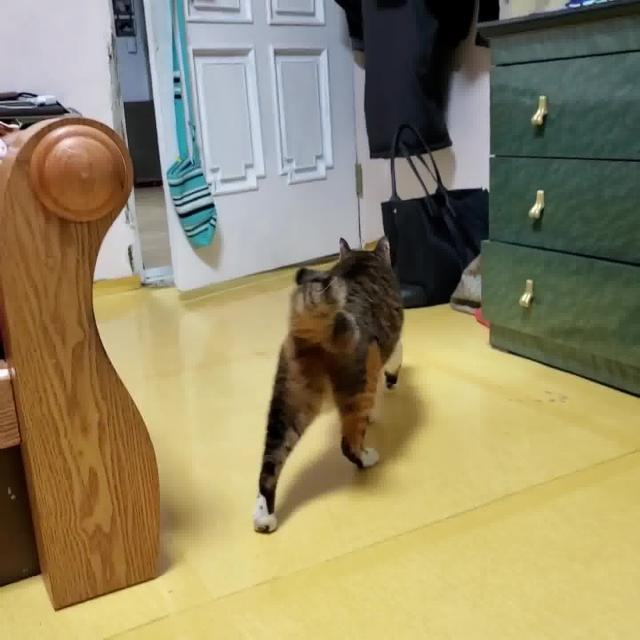cat: (252, 239, 406, 532)
